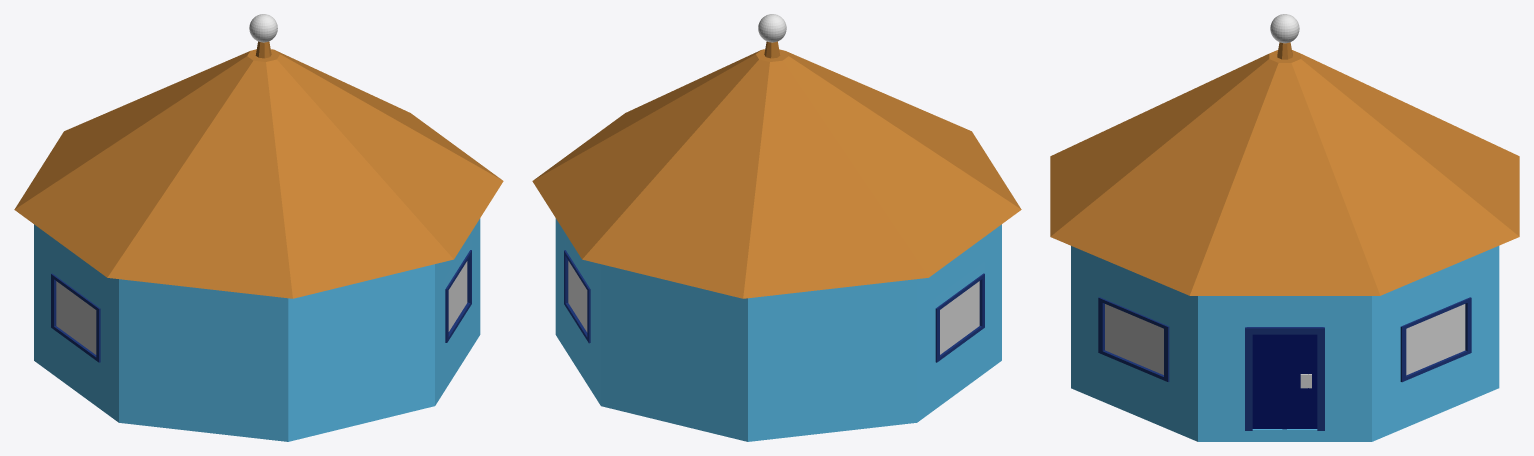
File: Home.fbx
The picture shows the model from 3 angles, left to right: view 1: azimuth 30°, elevation 25°; view 2: azimuth 150°, elevation 25°; view 3: azimuth 270°, elevation 25°; orthographic projection. The views are drawn at different scales.
Visible parts, largest first — view 1: Куб; view 2: Куб; view 3: Куб, door_second, door_first.
Boxes of the visible parts, x1=… form: Куб: x1=14, y1=14, x2=503, y2=441; Куб: x1=532, y1=14, x2=1021, y2=441; Куб: x1=1050, y1=14, x2=1519, y2=441; door_second: x1=1284, y1=334, x2=1317, y2=429; door_first: x1=1252, y1=334, x2=1284, y2=429.
Size of the model in its own units: 2773 by 2211 by 2773.
